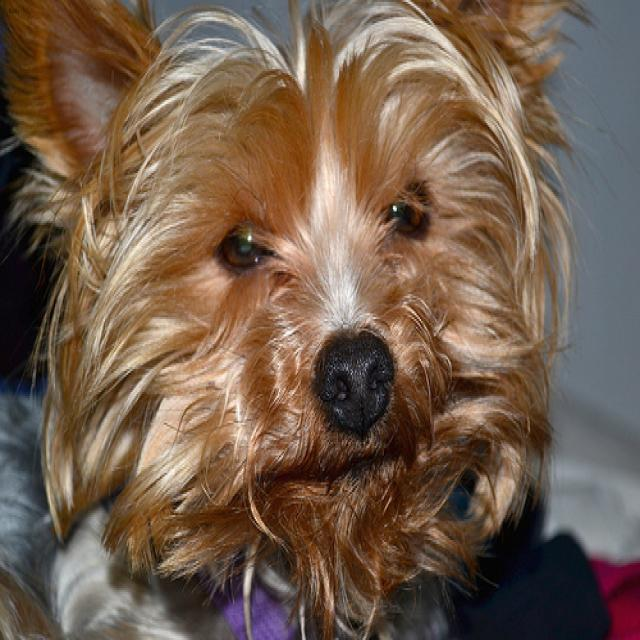dog-yorkshire_terrier: (1, 2, 605, 636)
